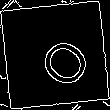O_NW: (21, 22, 89, 88)
